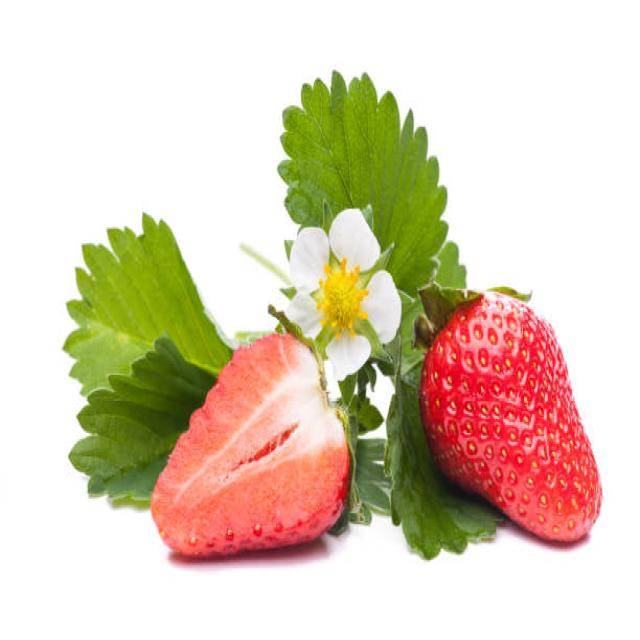Healthy Fruit: (418, 292, 602, 540), (152, 333, 350, 555)
